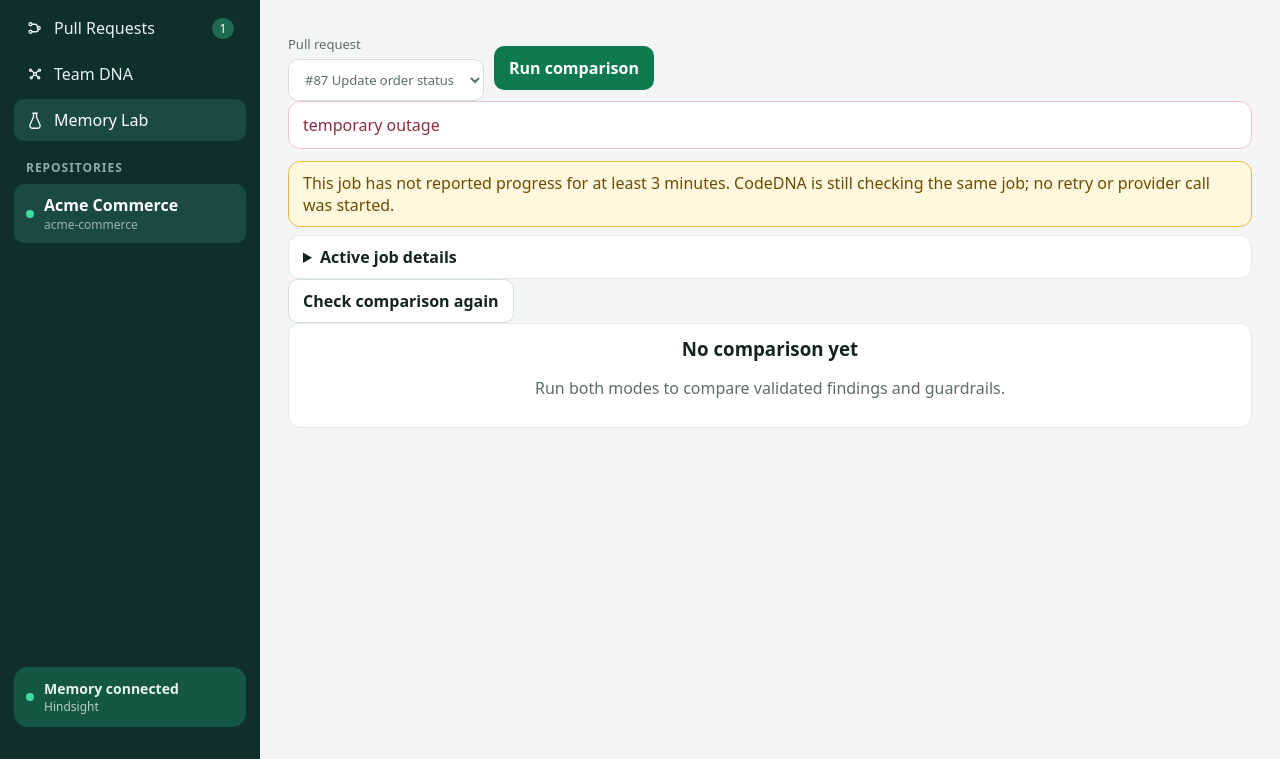
checks an existing comparison again after bounded polling is exhausted
This screenshot has width=1280, height=759.
Expected: the text "Active job details" is shown, [288,235,1252,279]
Click the heading "Active job details" at (388, 257), box [320,246,457,268]
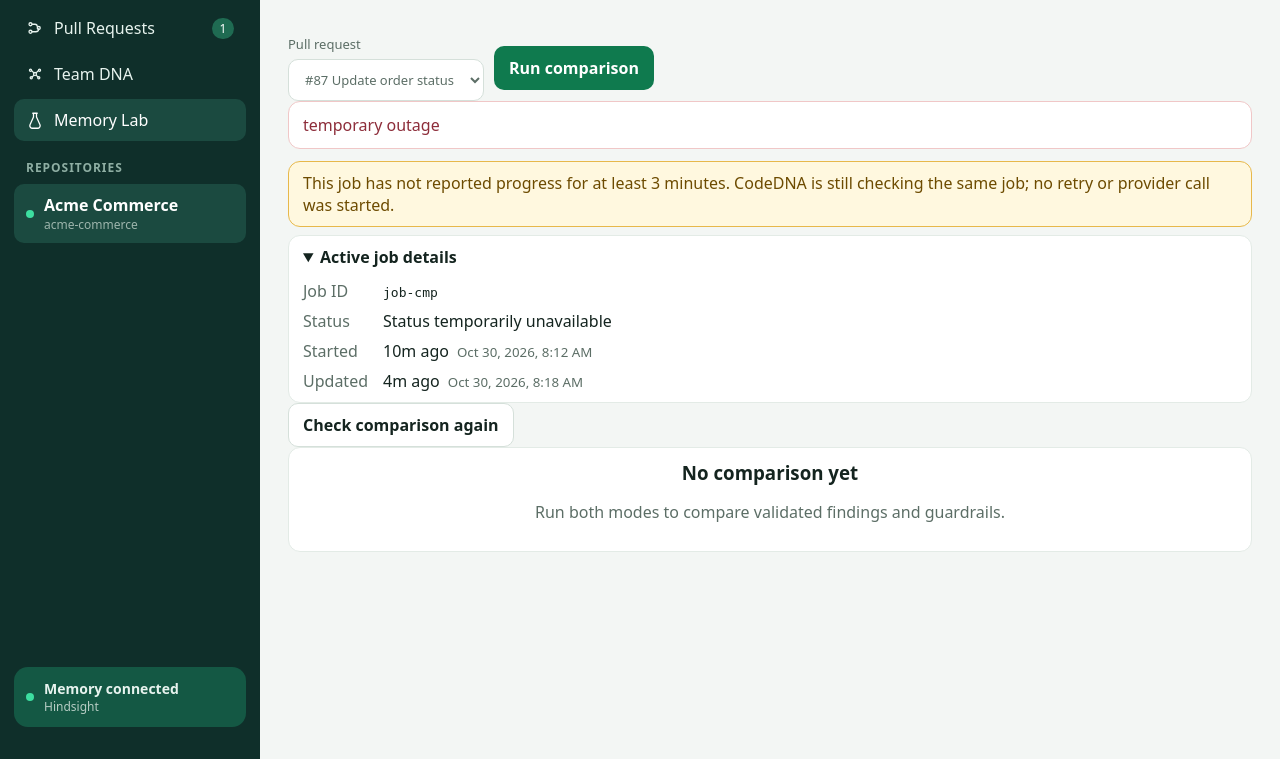
Expected: the text "has not reported progress for at least 3 minutes" is shown, [303,172,1210,216]
Result: the text "job-cmp" is shown at [383,285,438,300]
Result: the text "Status temporarily unavailable" is shown at [383,310,612,332]
Click the button "Check comparison again" at (401, 425), box [288,403,514,447]
(page scrolled)
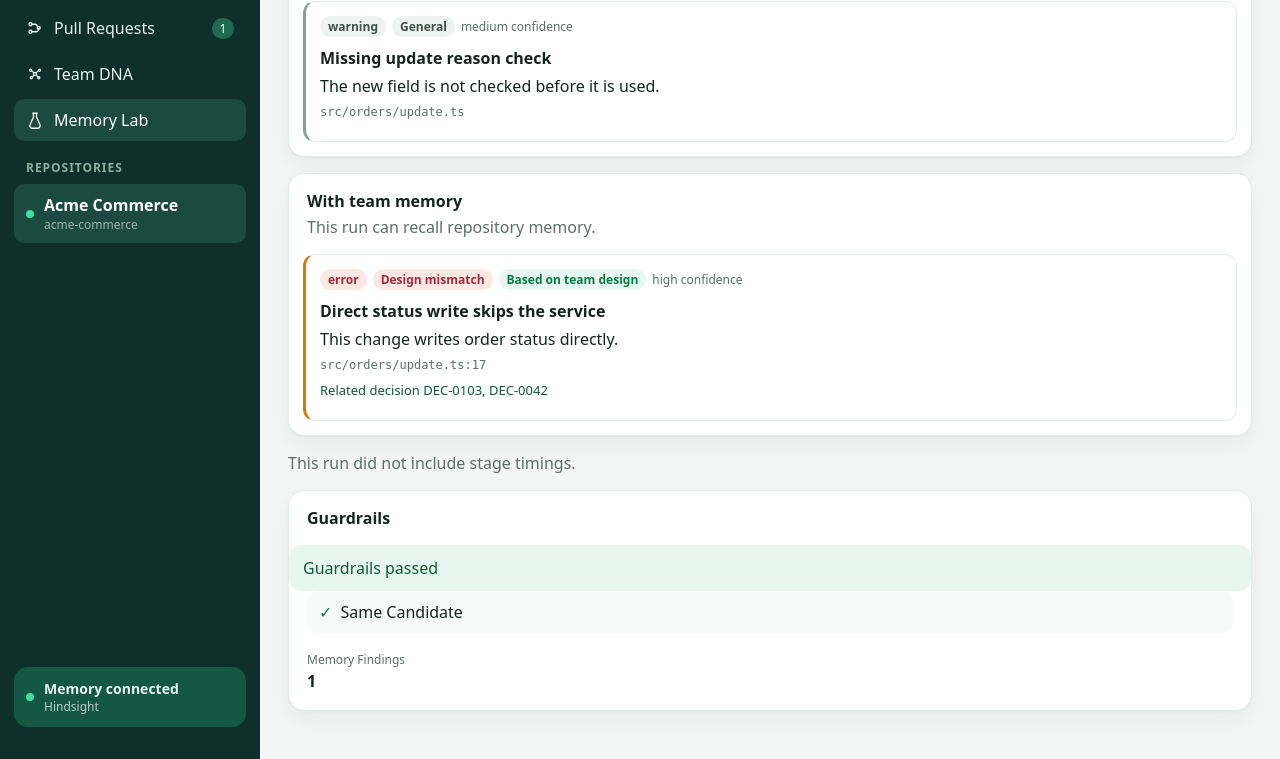
Result: the text "Guardrails passed" is shown at [289,545,1251,591]
Result: the heading "Active job details" is gone
